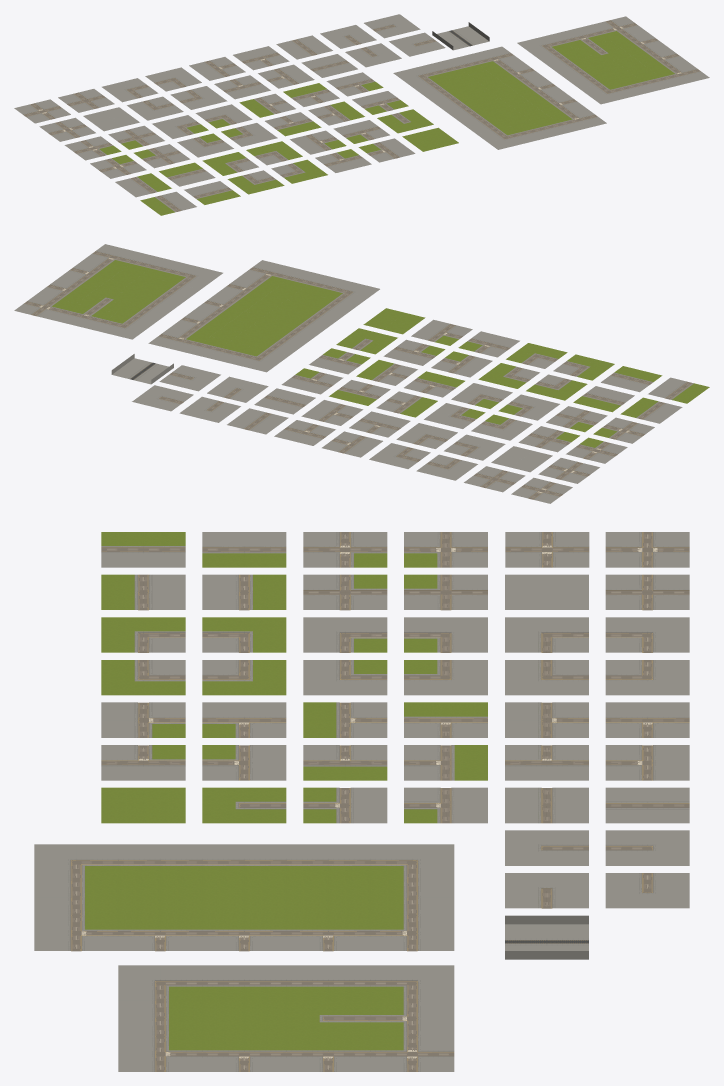
The model's file is Street.FBX.
The picture shows the model from 3 angles, top to bottom: view 1: azimuth 30°, elevation 25°; view 2: azimuth 150°, elevation 25°; view 3: azimuth 270°, elevation 25°; orthographic projection. The views are drawn at different scales.
Visible parts, largest first — view 1: StreetParkA, StreetParkB, StreetMetro, StreetParkIntersectionA, StreetTJunctionSouth, StreetParkIntersectionB, StreetParkVerticalA, StreetParkTJunctionSouthC, StreetCornerEastSouth, StreetParkCornerSouthWestA, StreetParkCornerSouthWestB, StreetParkIntersectionStopA (+37 smaller); view 2: StreetParkA, StreetParkB, StreetMetro, StreetTJunctionNorth, StreetIntersectionA, StreetParkTJunctionNorthB, StreetParkCornerNorthEastA, StreetParkTJunctionEastB, StreetParkVerticalA, StreetParkTJunctionNorthA, StreetParkCornerNorthEastB, StreetParkIntersectionStopA (+37 smaller); view 3: StreetParkA, StreetParkB, StreetMetro, StreetParkFiller, StreetVertical, StreetParkDeadEndEast, StreetParkTJunctionEastC, StreetHorizontal, StreetParkTJunctionSouthC, StreetParkHorizontalB, StreetIntersection, StreetParkIntersectionB (+37 smaller).
Part boxes in pixels (x1,y1,x2,y2): StreetParkA: (393,46,606,149); StreetParkB: (517,16,709,104); StreetMetro: (432,22,489,50); StreetParkIntersectionA: (108,125,164,149); StreetTJunctionSouth: (233,46,289,70); StreetParkIntersectionB: (134,144,190,168); StreetParkVerticalA: (115,173,171,197); StreetParkTJunctionSouthC: (326,72,383,96); StreetCornerEastSouth: (102,78,158,102); StreetParkCornerSouthWestA: (195,104,252,128); StreetParkCornerSouthWestB: (246,141,302,165); StreetParkIntersectionStopA: (64,136,121,160); StreetParkA: (148,260,379,372); StreetParkB: (14,244,222,339); StreetMetro: (111,354,173,384); StreetTJunctionNorth: (349,411,410,437); StreetIntersectionA: (511,477,572,503); StreetParkTJunctionNorthB: (458,331,519,357); StreetParkCornerNorthEastA: (498,394,559,420); StreetParkTJunctionEastB: (431,351,492,377); StreetParkVerticalA: (620,397,682,423); StreetParkTJunctionNorthA: (404,371,464,397); StreetParkCornerNorthEastB: (553,354,614,380); StreetParkIntersectionStopA: (566,437,627,463); StreetParkA: (34,844,454,951); StreetParkB: (118,965,454,1071); StreetMetro: (505,915,588,959); StreetParkFiller: (101,787,185,823); StreetVertical: (605,787,689,823); StreetParkDeadEndEast: (202,787,286,823); StreetParkTJunctionEastC: (303,787,387,823); StreetHorizontal: (505,787,588,823); StreetParkTJunctionSouthC: (404,787,487,823); StreetParkHorizontalB: (101,574,185,610); StreetIntersection: (605,574,689,610); StreetParkIntersectionB: (303,574,387,610).
Size of the model in its own units: 1900 by 14.19 by 975.
